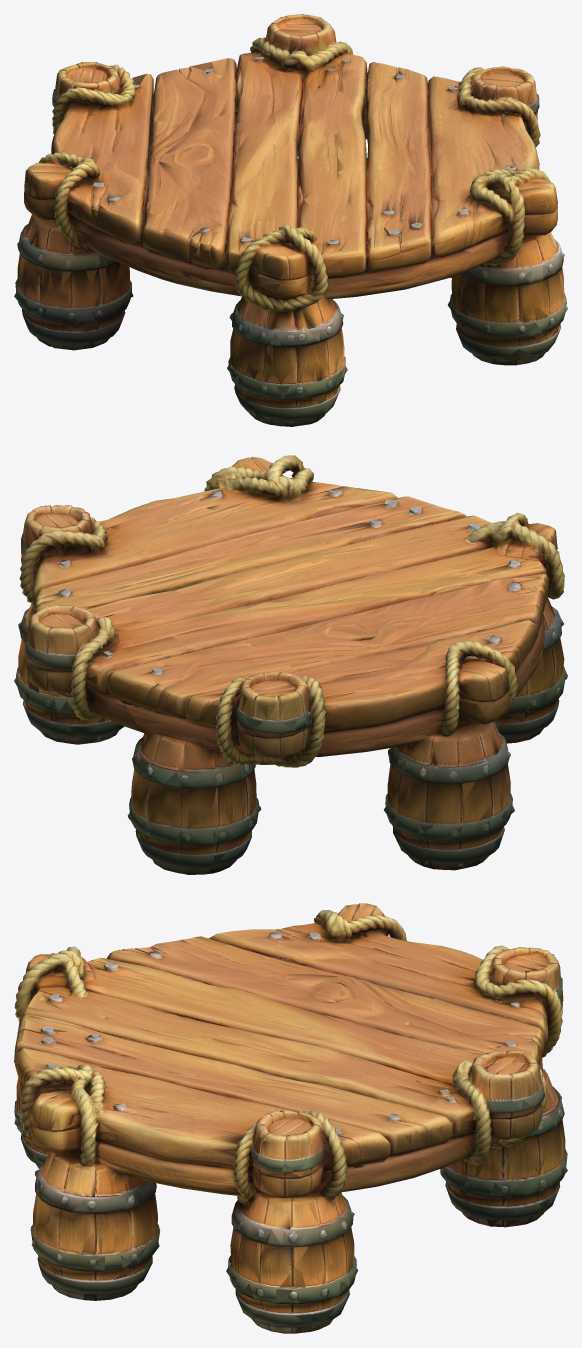
Rendered from plat_alti.glb.
3 renders of one model, top to bottom at view 1: azimuth 30°, elevation 25°; view 2: azimuth 150°, elevation 25°; view 3: azimuth 270°, elevation 25°, orthographic. The views are drawn at different scales.
Visible parts, largest first — view 1: tripo_node_89894c35-bf0e-4b6b-a5b0-7b2271f97a48; view 2: tripo_node_89894c35-bf0e-4b6b-a5b0-7b2271f97a48; view 3: tripo_node_89894c35-bf0e-4b6b-a5b0-7b2271f97a48.
Part boxes in pixels (bbox=[...]): tripo_node_89894c35-bf0e-4b6b-a5b0-7b2271f97a48: bbox=[14, 14, 567, 426]; tripo_node_89894c35-bf0e-4b6b-a5b0-7b2271f97a48: bbox=[14, 455, 567, 874]; tripo_node_89894c35-bf0e-4b6b-a5b0-7b2271f97a48: bbox=[14, 903, 567, 1333].
Size of the model in its own units: 0.9794 by 0.3792 by 0.9022.
1 material, 1 textured.
